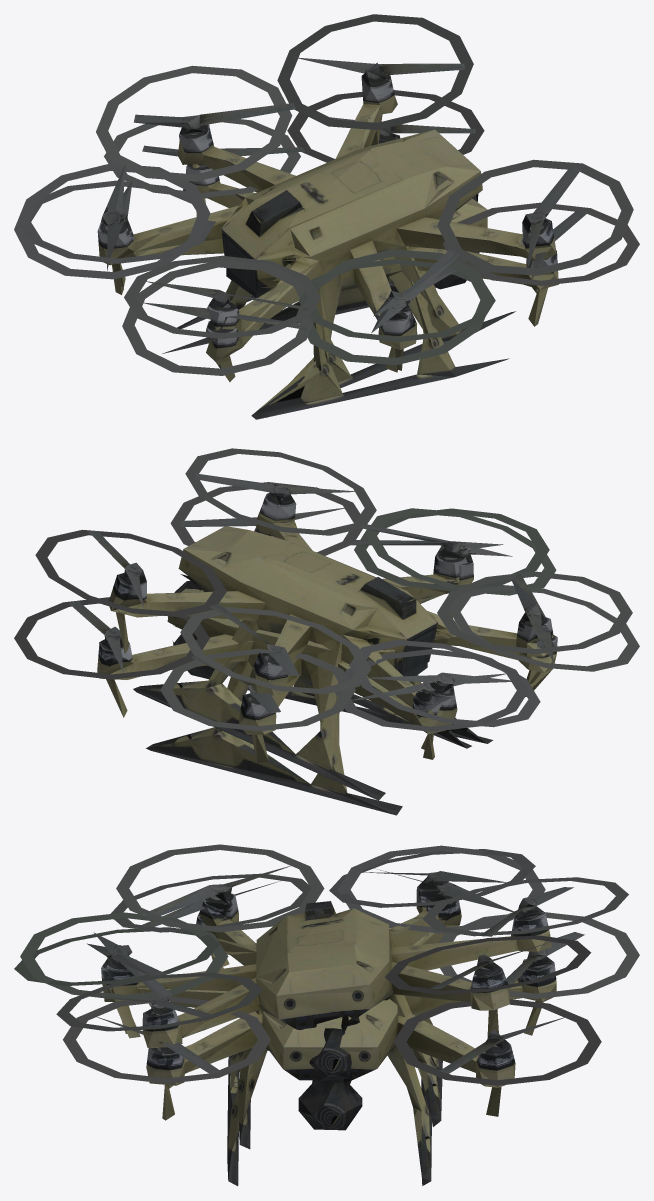
The model's file is recon_drone.glb.
3 views of the same model, one above another, from view 1: azimuth 30°, elevation 25°; view 2: azimuth 150°, elevation 25°; view 3: azimuth 270°, elevation 25° (orthographic). The views are drawn at different scales.
Visible parts, largest first — view 1: WRECK_hull_hull, WRECK_hull_metal, hull_metal, hull_hull; view 2: WRECK_hull_hull, WRECK_hull_metal, hull_metal, hull_hull; view 3: WRECK_hull_hull, hull_metal, hull_hull, WRECK_hull_metal, hull_glass.
Boxes of the visible parts, left/top/right/bottom form: WRECK_hull_hull: left=97, top=76, right=556, bottom=417; WRECK_hull_metal: left=14, top=14, right=633, bottom=375; hull_metal: left=20, top=90, right=639, bottom=342; hull_hull: left=104, top=145, right=558, bottom=419; WRECK_hull_hull: left=109, top=498, right=557, bottom=800; WRECK_hull_metal: left=35, top=448, right=639, bottom=727; hull_metal: left=14, top=482, right=632, bottom=731; hull_hull: left=97, top=536, right=553, bottom=815; WRECK_hull_hull: left=101, top=888, right=551, bottom=1149; hull_metal: left=20, top=844, right=639, bottom=1085; hull_hull: left=106, top=895, right=556, bottom=1186; WRECK_hull_metal: left=14, top=849, right=628, bottom=1031; hull_glass: left=298, top=1079, right=342, bottom=1130.
Bounding box in the file's own units: 1.26 × 0.5667 × 1.36.
1 material, 1 textured.
